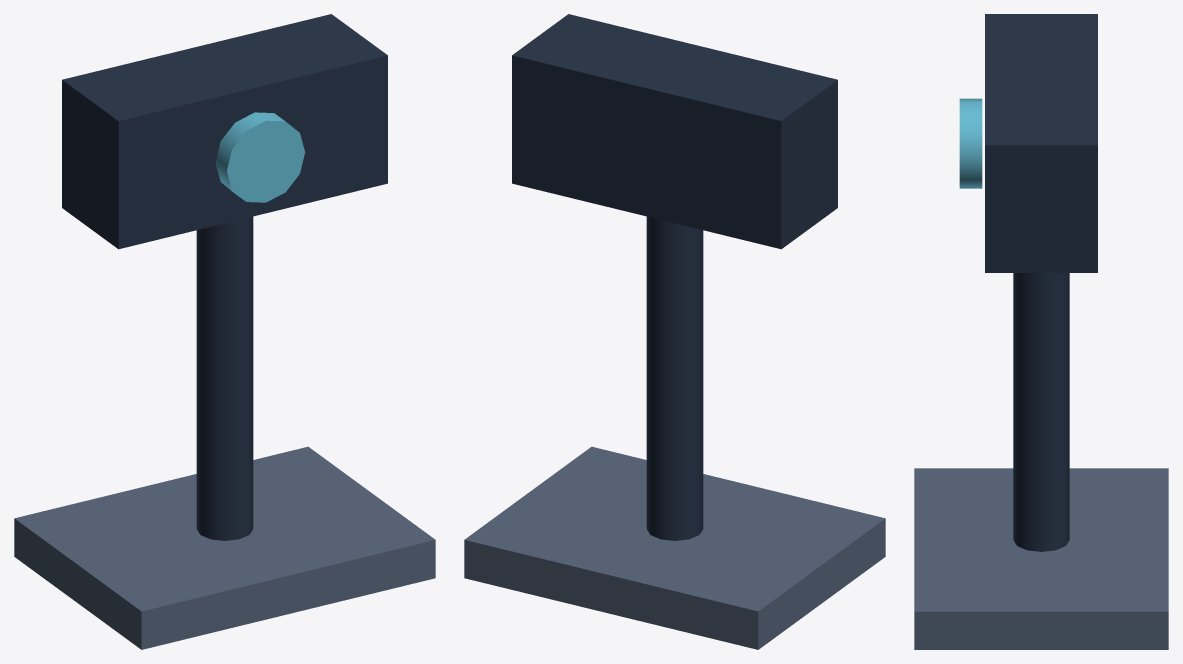
File: officeWebcam.glb
3 views of the same model, side by side, from view 1: azimuth 30°, elevation 25°; view 2: azimuth 150°, elevation 25°; view 3: azimuth 270°, elevation 25° (orthographic).
Size of the model in its own units: 0.12 by 0.195 by 0.09.
